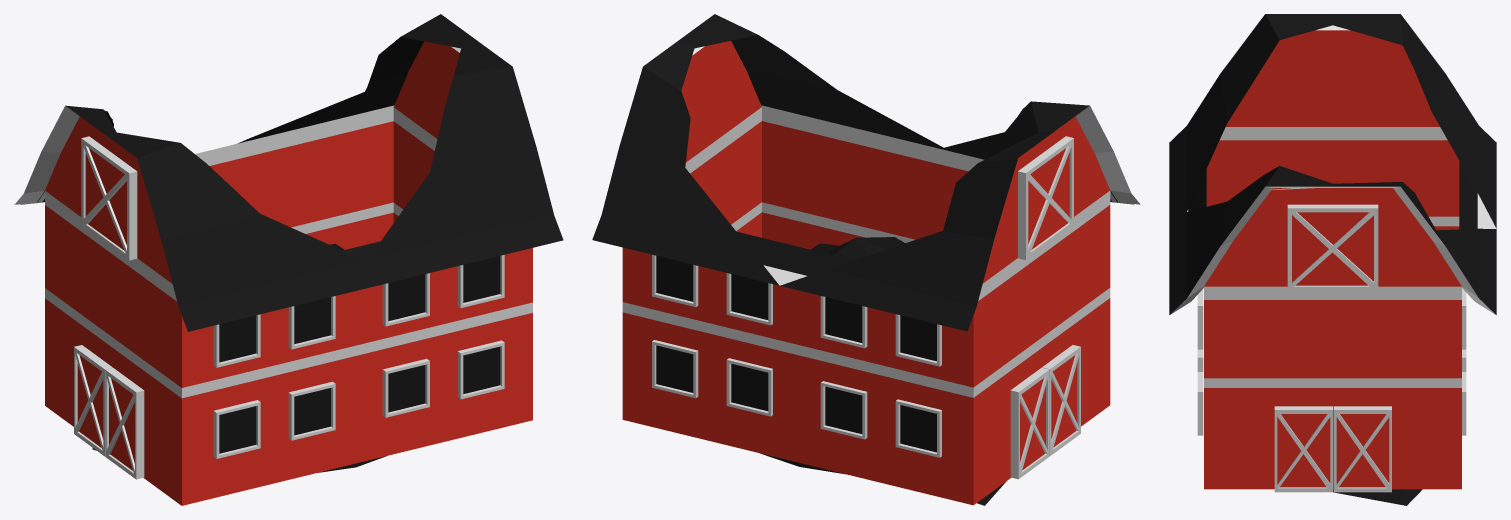
File: barn-roof-destroyed.fbx
The picture shows the model from 3 angles, left to right: view 1: azimuth 30°, elevation 25°; view 2: azimuth 150°, elevation 25°; view 3: azimuth 270°, elevation 25°; orthographic projection. The views are drawn at different scales.
Parts seen in each view (by area): view 1: Cube; view 2: Cube; view 3: Cube.
Part boxes in pixels (x1,y1,x2,y2): Cube: (14,14,563,505); Cube: (592,14,1140,505); Cube: (1169,14,1496,505).
Size of the model in its own units: 1700 by 1528 by 1361.
